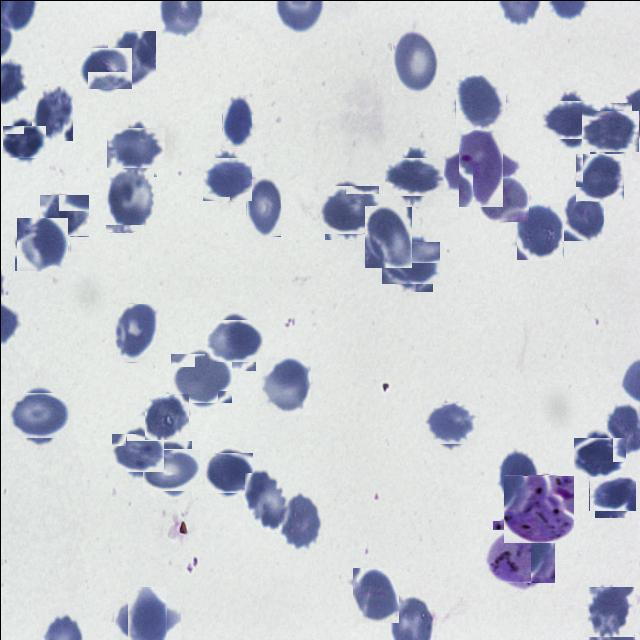red blood cell: (172, 349, 228, 405), (104, 169, 153, 232), (391, 29, 438, 93), (260, 356, 310, 415), (321, 182, 375, 236), (12, 388, 66, 442), (364, 205, 411, 267), (15, 218, 68, 271), (454, 75, 506, 128), (112, 303, 158, 362), (516, 202, 563, 259), (107, 30, 155, 84), (119, 593, 173, 640), (352, 567, 398, 622), (110, 122, 160, 172), (386, 237, 436, 287), (146, 444, 196, 494), (208, 316, 258, 366), (585, 106, 635, 156), (584, 586, 633, 636), (79, 43, 128, 92), (388, 152, 438, 200), (244, 472, 288, 526), (546, 94, 594, 143), (574, 152, 622, 200), (427, 399, 475, 447), (280, 494, 321, 550), (31, 85, 72, 140), (480, 176, 530, 221), (203, 156, 250, 202), (245, 176, 280, 236), (38, 194, 88, 236), (563, 188, 603, 240), (114, 429, 160, 474), (576, 434, 622, 479), (144, 393, 188, 439), (206, 449, 250, 494), (499, 450, 538, 496), (591, 472, 632, 513), (221, 94, 251, 147), (4, 122, 42, 160)
ring: (450, 137, 511, 199)
trophozoite: (503, 474, 572, 544), (488, 524, 550, 586)
